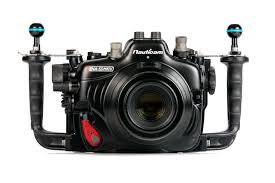camera: (63, 38, 209, 151)
